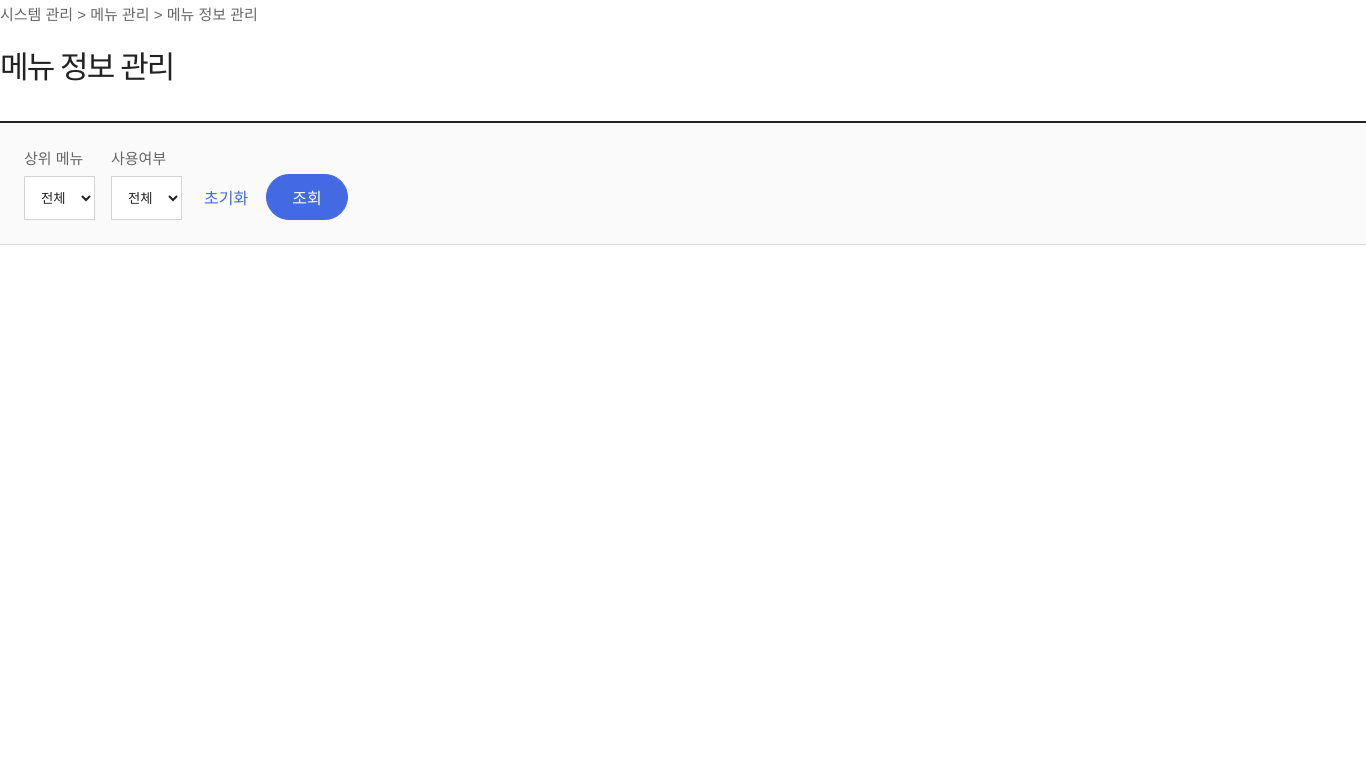
it: MenuInformationManagementPage › requeries and redisplays execution information and screen connection after editing a menu
Click the button "조회" at (307, 197), box [266,174,348,220]
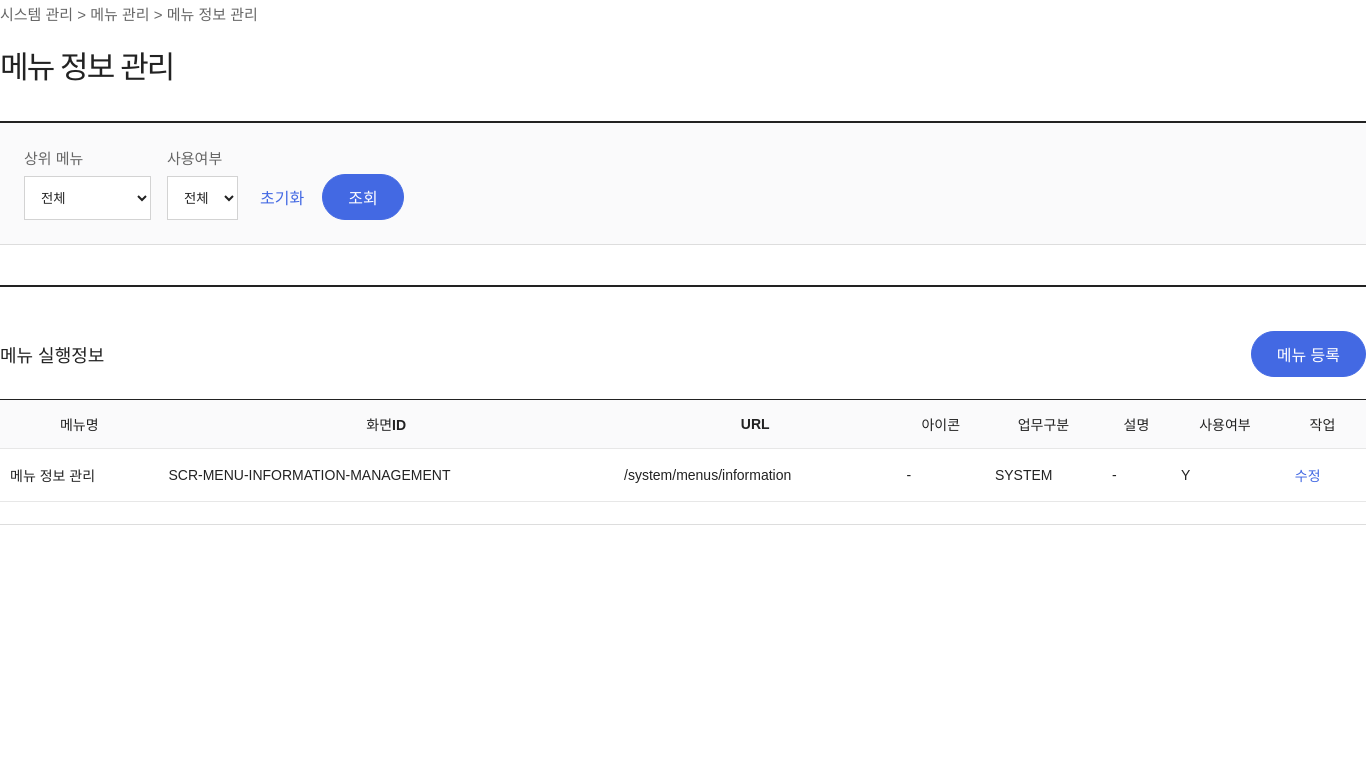
Expected: the text "SCR-MENU-INFORMATION-MANAGEMENT" is shown, [158,448,614,502]
Click the button "수정" at (1308, 475), box [1289,464,1327,486]
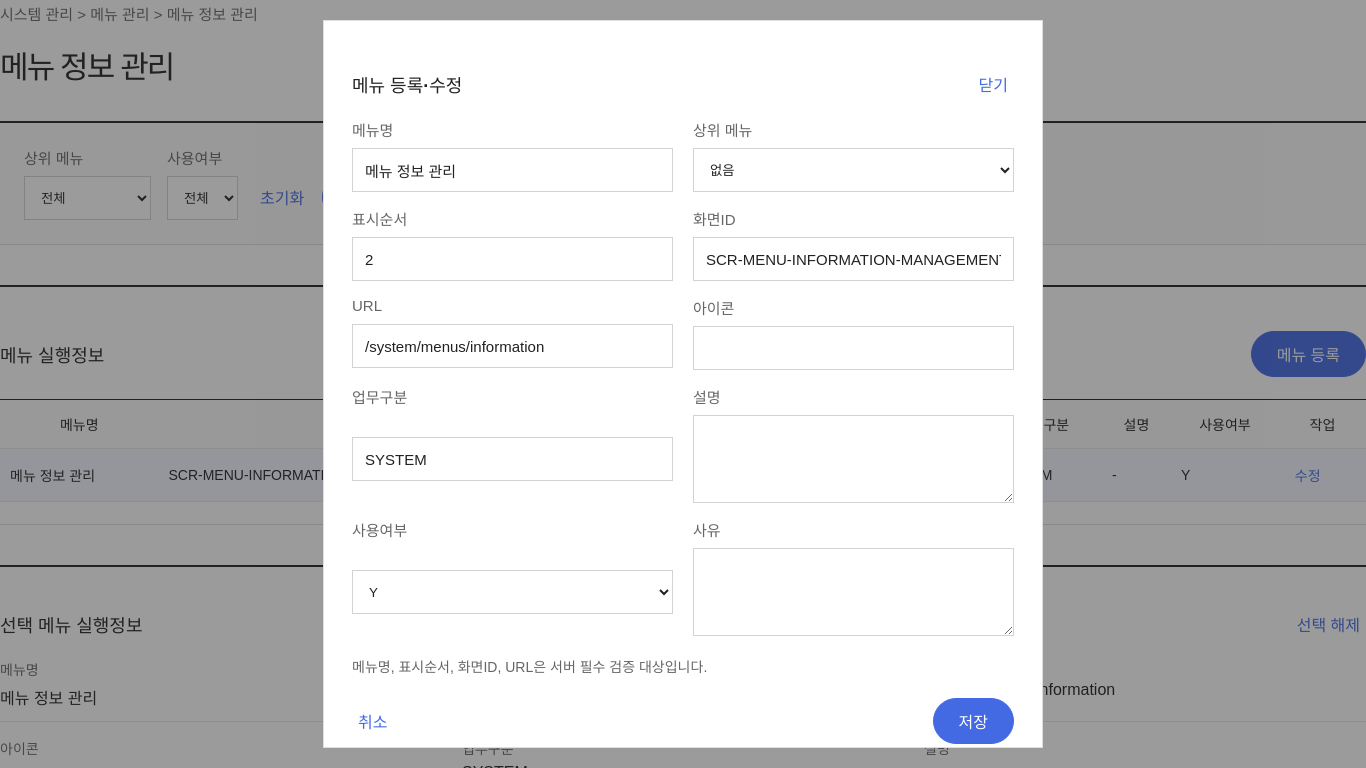
Replace the text in the field labelled "URL" with "/system/menus/information-updated" at (512, 346), box [352,324,673,368]
Type "menu-file" into the field labelled "아이콘" at (854, 348), box [693,326,1014,370]
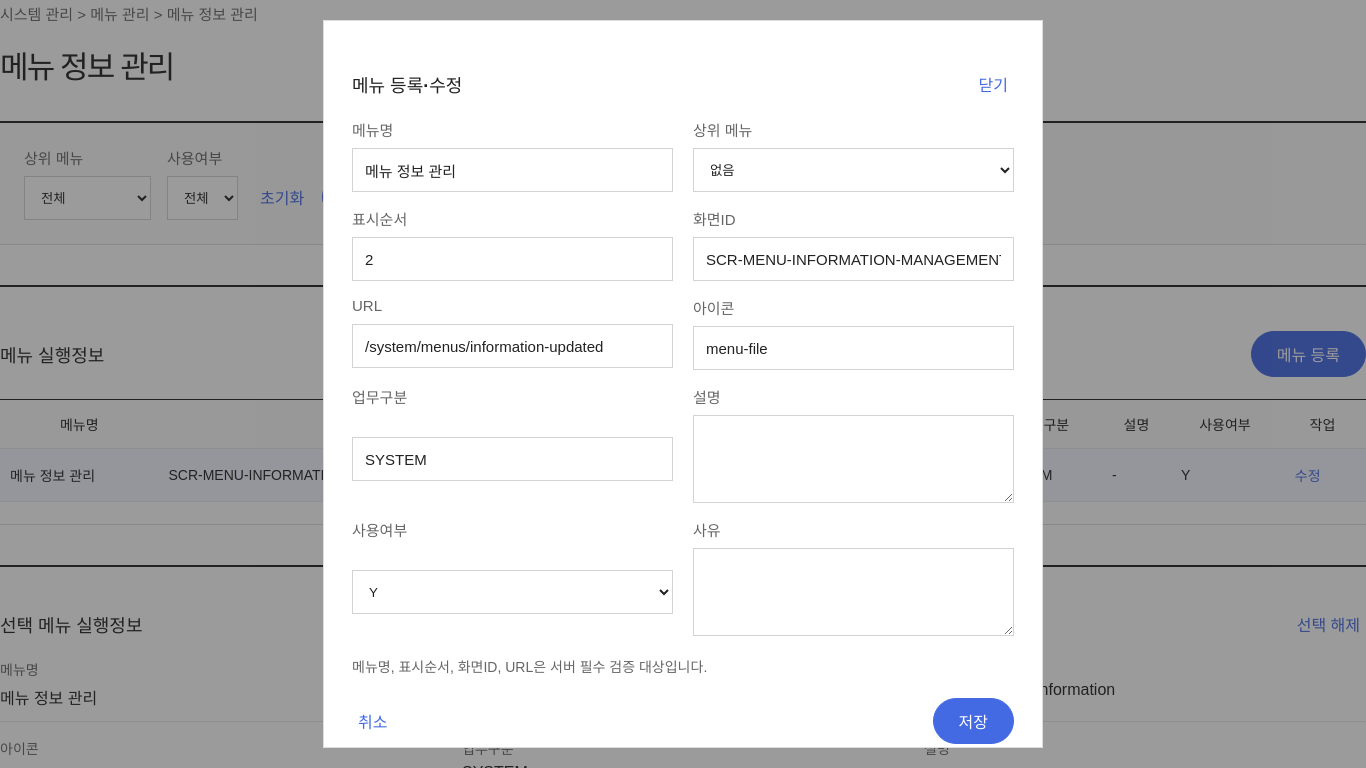
Replace the text in the field labelled "업무구분" with "SYSTEM-MANAGEMENT" at (512, 459), box [352,437,673,481]
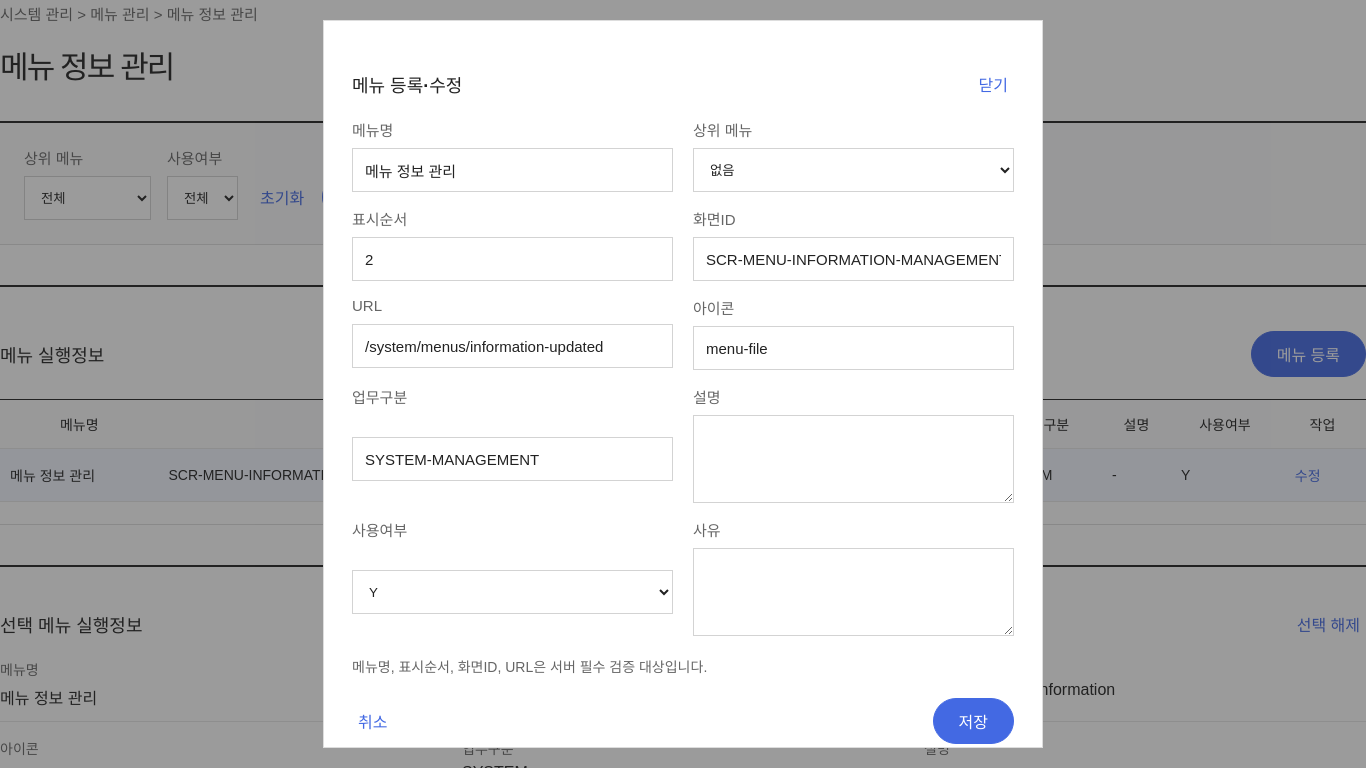
Type "메뉴 실행정보와 화면 연결을 관리합니다." into the text box labelled "설명" at (854, 459), box [693,415,1014,503]
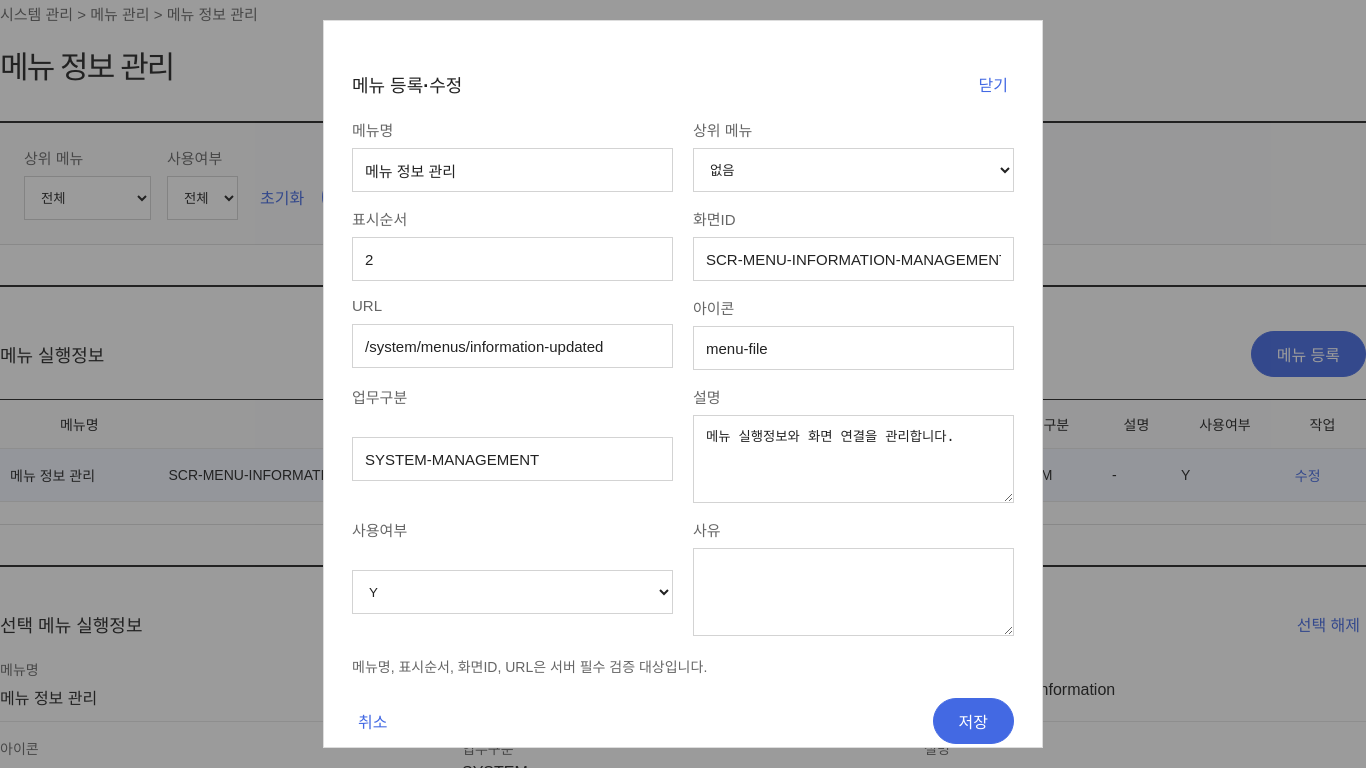
Click the button "저장" at (973, 721), box [932,698,1014,744]
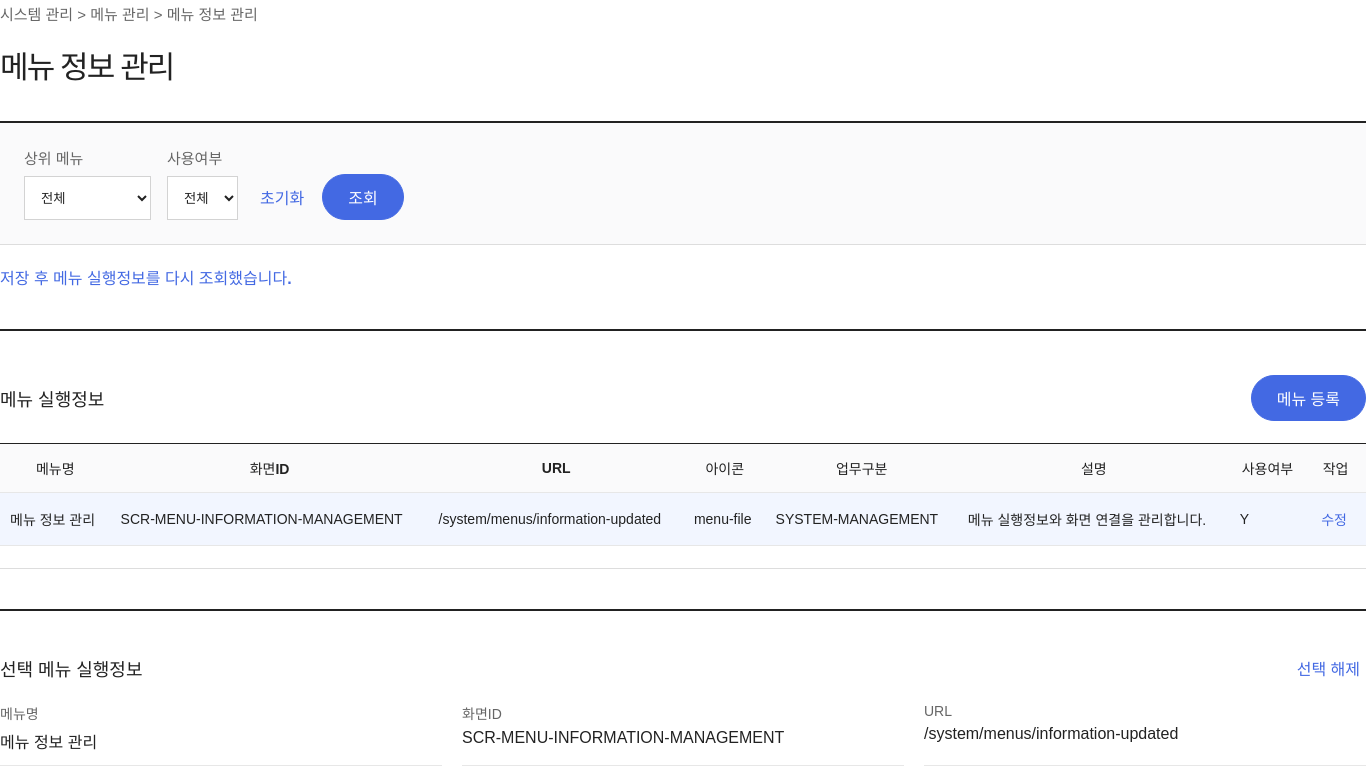
Expected: the text "저장 후 메뉴 실행정보를 다시 조회했습니다." is shown, [0,270,292,287]
